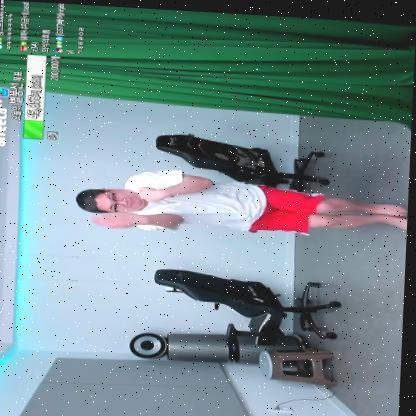streamer: (73, 162, 410, 241)
